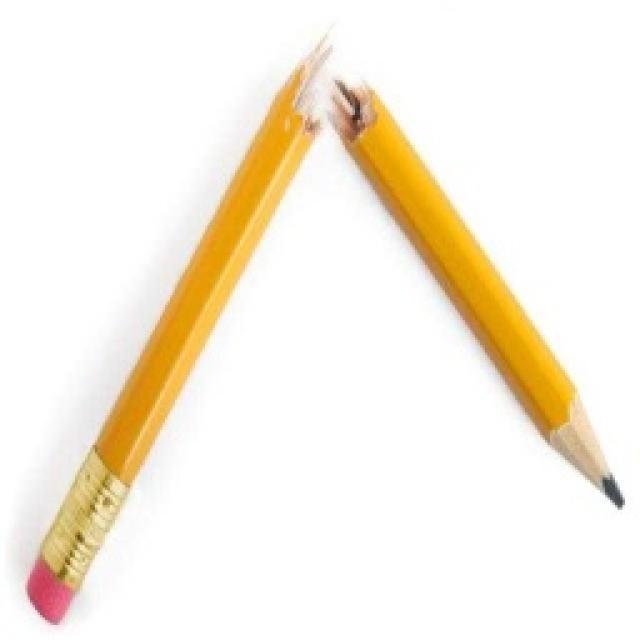pencil: (18, 22, 628, 628)
